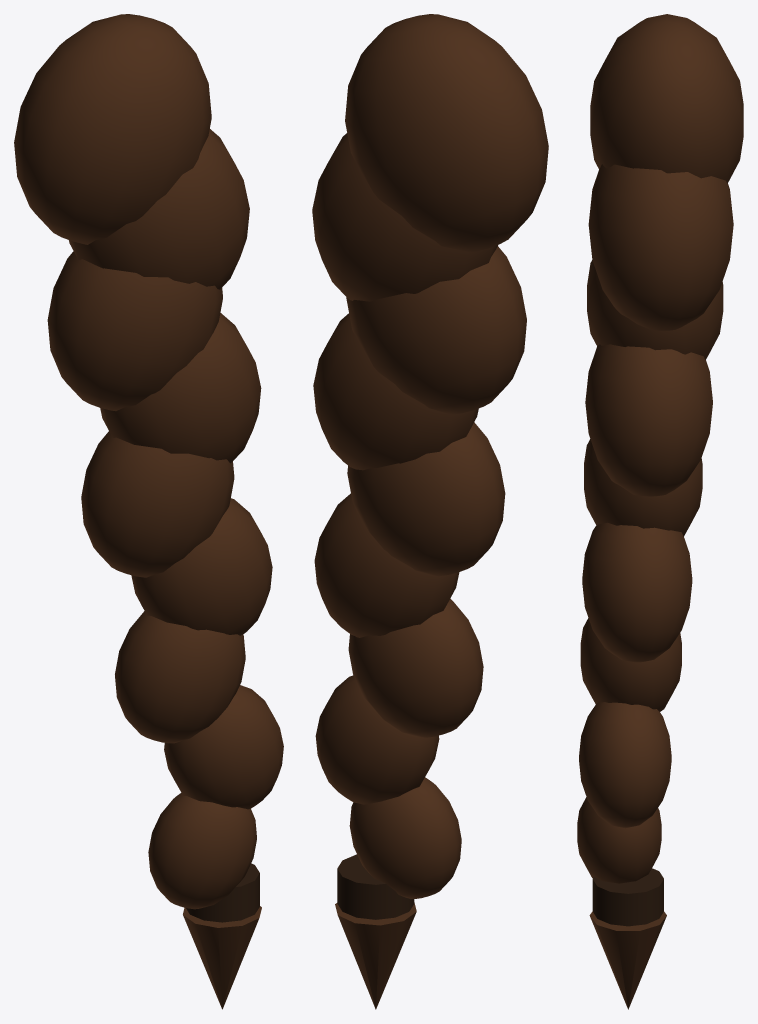
The model's file is modele.glb.
3 renders of one model, left to right at view 1: azimuth 30°, elevation 25°; view 2: azimuth 150°, elevation 25°; view 3: azimuth 270°, elevation 25°, orthographic. The views are drawn at different scales.
Bounding box in the file's own units: 17.26 × 70.31 × 11.16.
